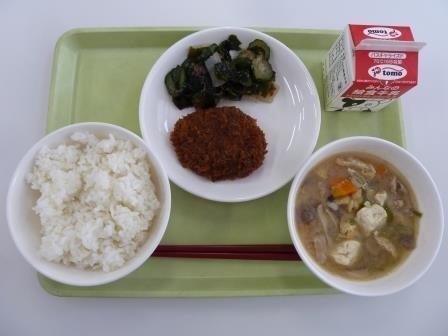Milk: (315, 20, 423, 118)
Rice: (15, 123, 163, 273)
Soups: (286, 144, 428, 284)
cutlet: (169, 106, 275, 181)
salad with sauce: (156, 28, 283, 111)
